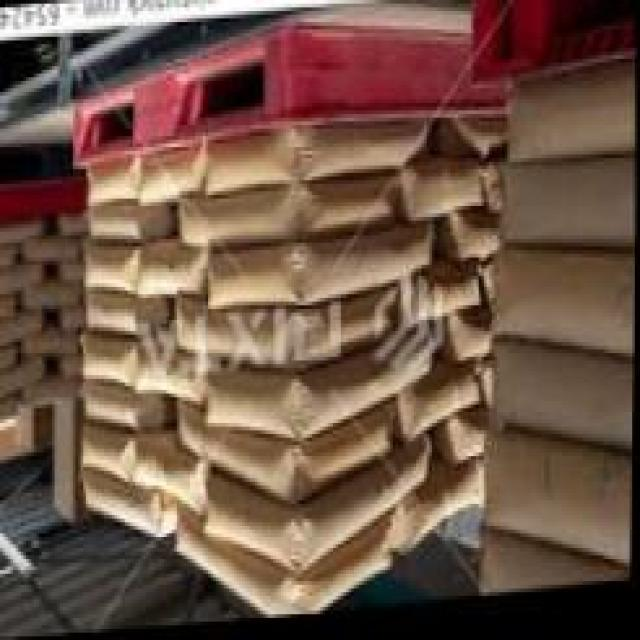gunny_bag: (204, 444, 423, 580), (208, 331, 428, 436), (172, 519, 394, 622), (177, 409, 389, 509), (479, 440, 634, 569), (207, 223, 424, 311), (177, 292, 392, 375), (492, 254, 636, 374), (493, 352, 635, 455), (182, 182, 395, 250), (211, 129, 429, 181), (509, 79, 636, 166), (503, 167, 636, 249), (484, 546, 632, 603), (408, 463, 475, 559), (130, 333, 207, 409), (131, 438, 205, 517), (411, 373, 481, 447), (83, 472, 157, 532), (408, 268, 481, 327), (412, 168, 479, 230), (142, 146, 196, 206), (75, 427, 133, 481), (79, 337, 137, 387), (82, 379, 142, 425), (88, 156, 138, 209), (88, 294, 143, 335), (0, 355, 40, 400), (92, 207, 138, 244), (0, 307, 39, 349), (0, 262, 36, 295), (30, 235, 74, 262), (0, 394, 16, 423), (0, 238, 16, 267)
